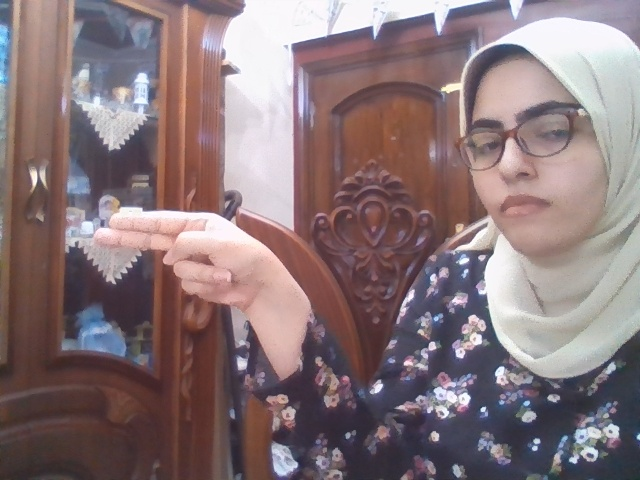H: (94, 211, 276, 307)
